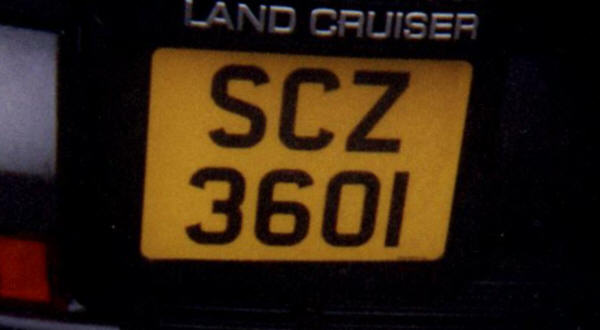license_plate: (142, 52, 474, 260)
